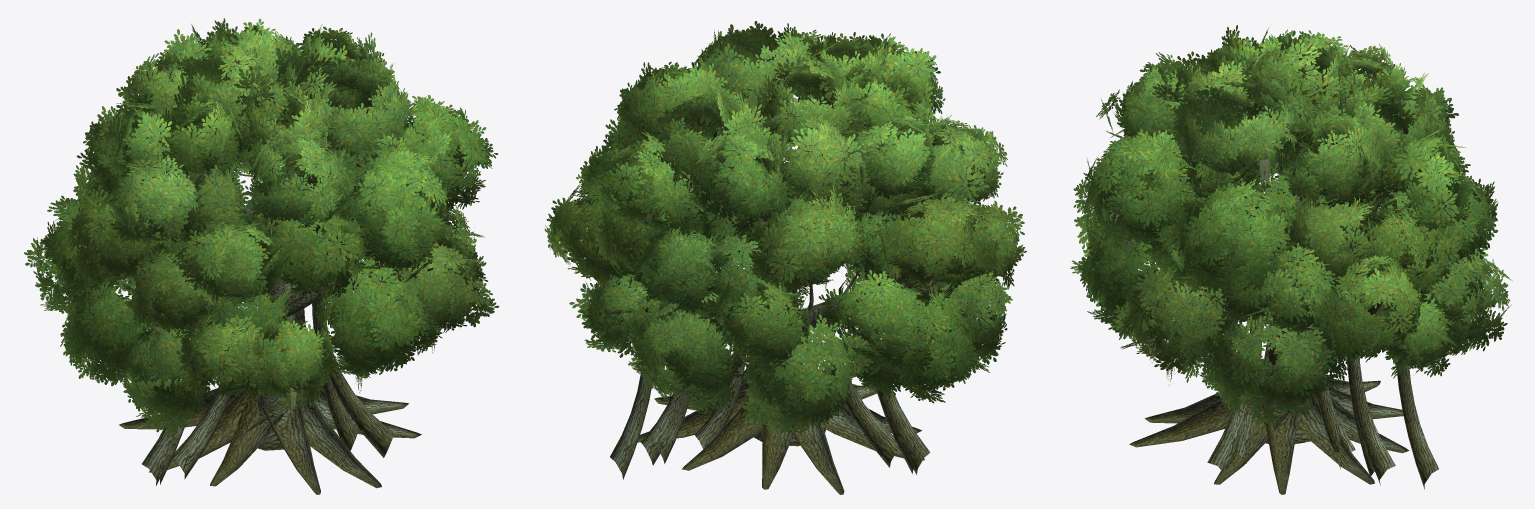
Rendered from mm6_deco_swptree3.glb.
3 views of the same model, side by side, from view 1: azimuth 30°, elevation 25°; view 2: azimuth 150°, elevation 25°; view 3: azimuth 270°, elevation 25° (orthographic). The views are drawn at different scales.
Parts seen in each view (by area): view 1: Tree; view 2: Tree; view 3: Tree.
Boxes of the visible parts, box(x1,y1,x2,y2) form: Tree: box(24, 18, 499, 494); Tree: box(544, 21, 1026, 494); Tree: box(1070, 25, 1512, 494).
Size of the model in its own units: 4.24 by 4.02 by 4.23.
Materials: 3 (3 with a texture image).
